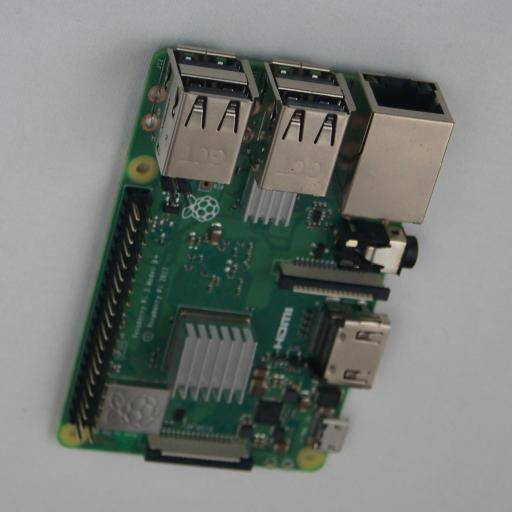Raspberry Pi 3 B-: (58, 43, 454, 471)
